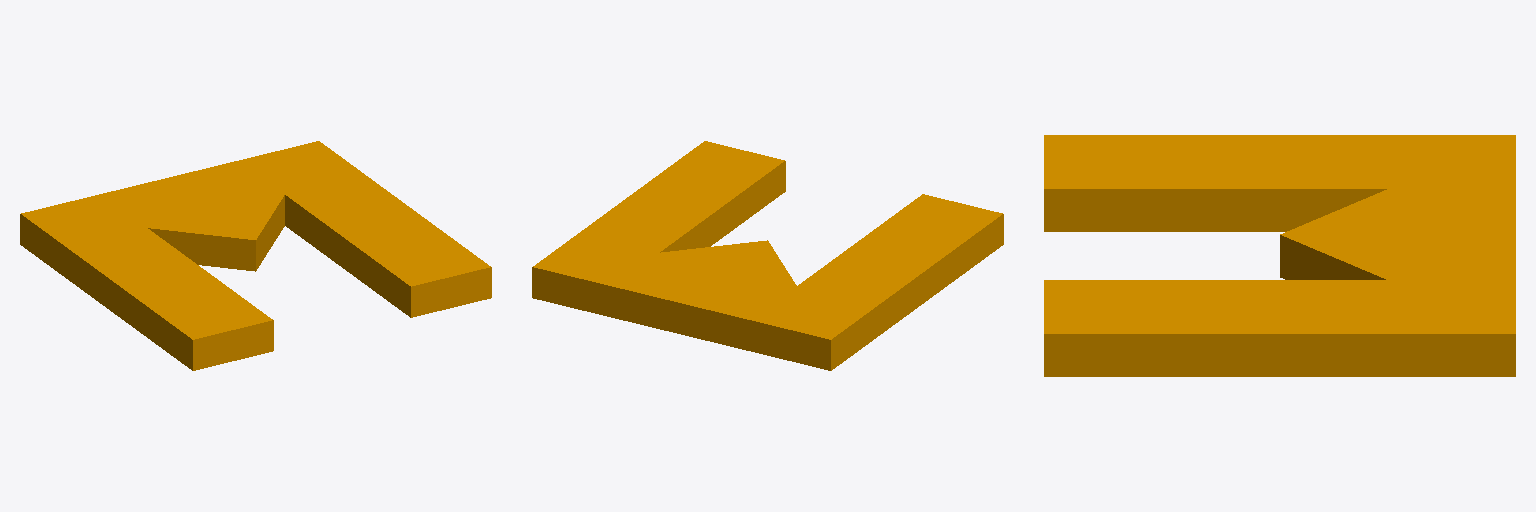
robot.urdf — shape:
<?xml version="1.0" ?>
<robot name="shape">
  <link name="shape">
    <visual>
      <origin rpy="0 0 0" xyz="0 0 0"/>
      <geometry>
        <mesh scale="0.001 0.001 0.001" filename="package://core/stl/m.stl"/>
      </geometry>
    </visual>
  </link>
</robot>

--- Render facts (derived) ---
The picture shows the robot from 3 angles, left to right: view 1: azimuth 30°, elevation 25°; view 2: azimuth 150°, elevation 25°; view 3: azimuth 270°, elevation 25°; orthographic projection.
Model shape with 1 links and 0 joints (none), rooted at shape, posed every joint at zero.
Visible links, largest first — view 1: shape; view 2: shape; view 3: shape.
Boxes of the visible links, x1=… form: shape: x1=20, y1=141, x2=491, y2=370; shape: x1=532, y1=141, x2=1003, y2=370; shape: x1=1044, y1=135, x2=1515, y2=376.
Bounding box of the posed robot: 0.1 × 0.1 × 0.01 m (x, y, z).
Meshes: 1 distinct files referenced, 1 mesh visuals loaded (1 binary STL).